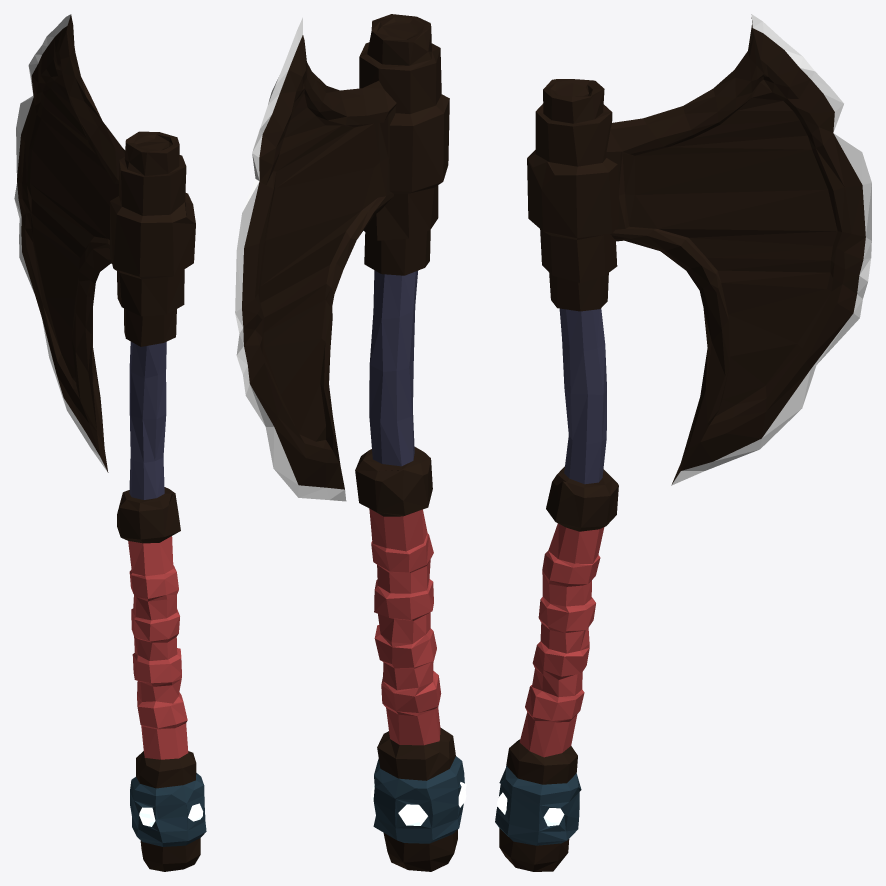
Rendered from SFFA_Weapon_Axe_Iron_002.fbx.
The picture shows the model from 3 angles, left to right: view 1: azimuth 30°, elevation 25°; view 2: azimuth 150°, elevation 25°; view 3: azimuth 270°, elevation 25°; orthographic projection. The views are drawn at different scales.
Parts seen in each view (by area): view 1: SFFA_Weapon_Axe_Iron_002; view 2: SFFA_Weapon_Axe_Iron_002; view 3: SFFA_Weapon_Axe_Iron_002.
Boxes of the visible parts, x1,y1,x2,y2 form: SFFA_Weapon_Axe_Iron_002: (14, 14, 206, 871); SFFA_Weapon_Axe_Iron_002: (235, 14, 466, 871); SFFA_Weapon_Axe_Iron_002: (495, 14, 871, 871).
Bounding box in the file's own units: 6.21 × 61.09 × 24.57.
